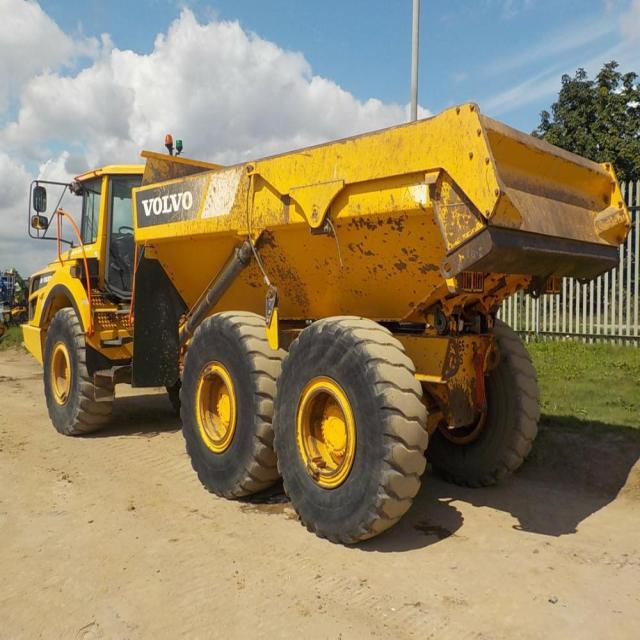dump_truck: (15, 101, 624, 541)
